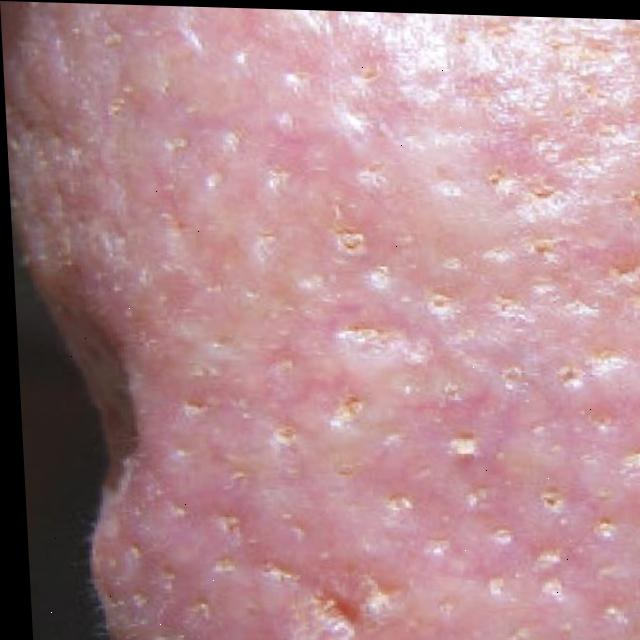Rosacea: (35, 25, 640, 640)
